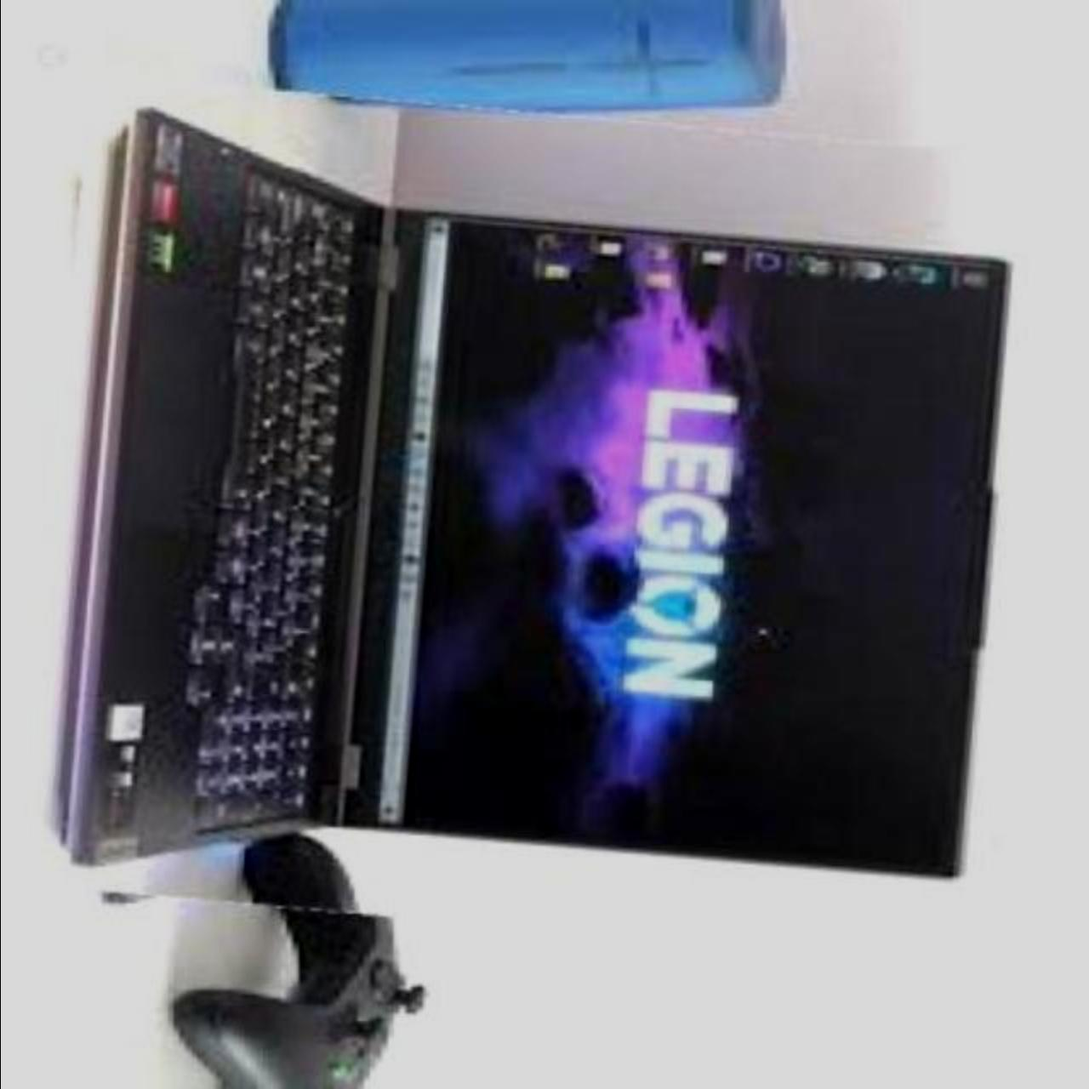laptop: (37, 94, 1035, 947)
